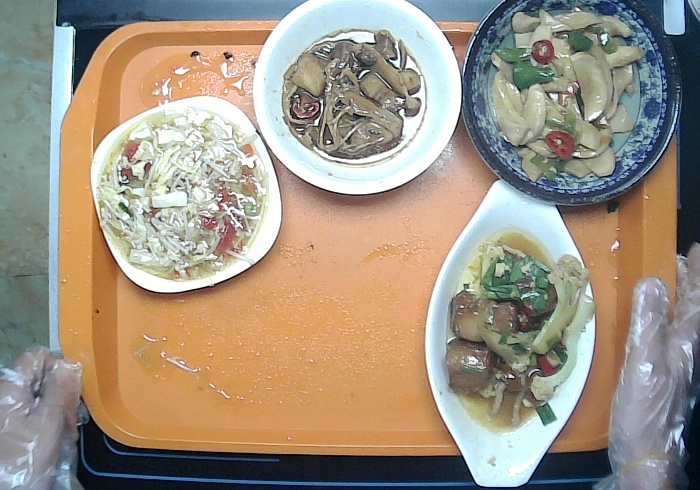ZNLD-Qing_Hua_Wan: (455, 1, 682, 210)
ZNLD-Si_Fang_Wan: (89, 92, 282, 295)
ZNLD-Tang_Wan: (248, 1, 464, 197)
ZNLD-Yu_Pan: (421, 177, 597, 490)
